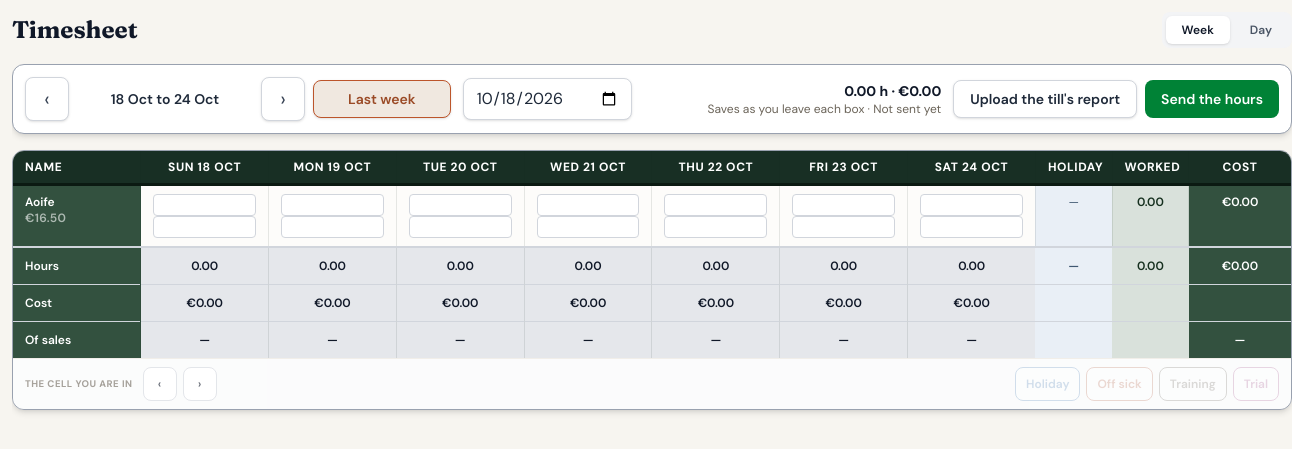
Scenario: saying that it saved › says when it last saved
Type "0900" into the 1st field named "Clock in".
click(205, 205); type("0900")  # box left=153, top=194, right=256, bottom=216
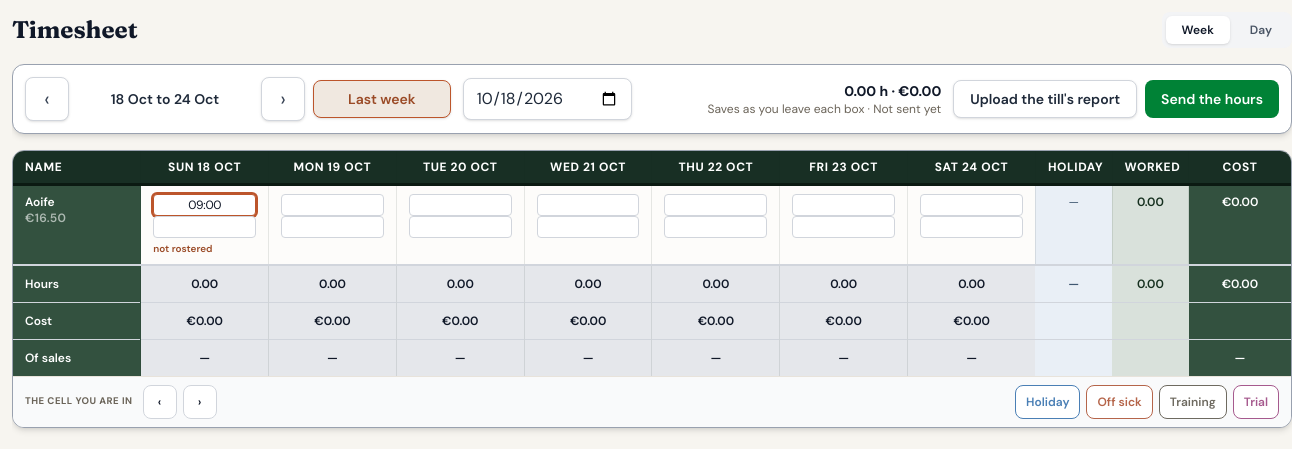
Press Tab
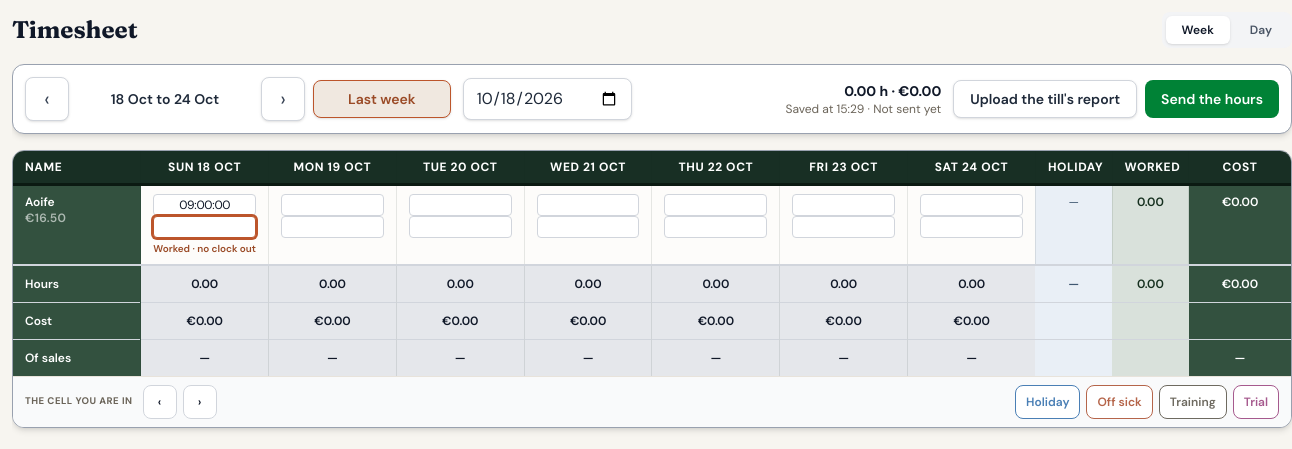
Expected: the text "Saved at 15:29" is shown, left=786, top=101, right=864, bottom=117
